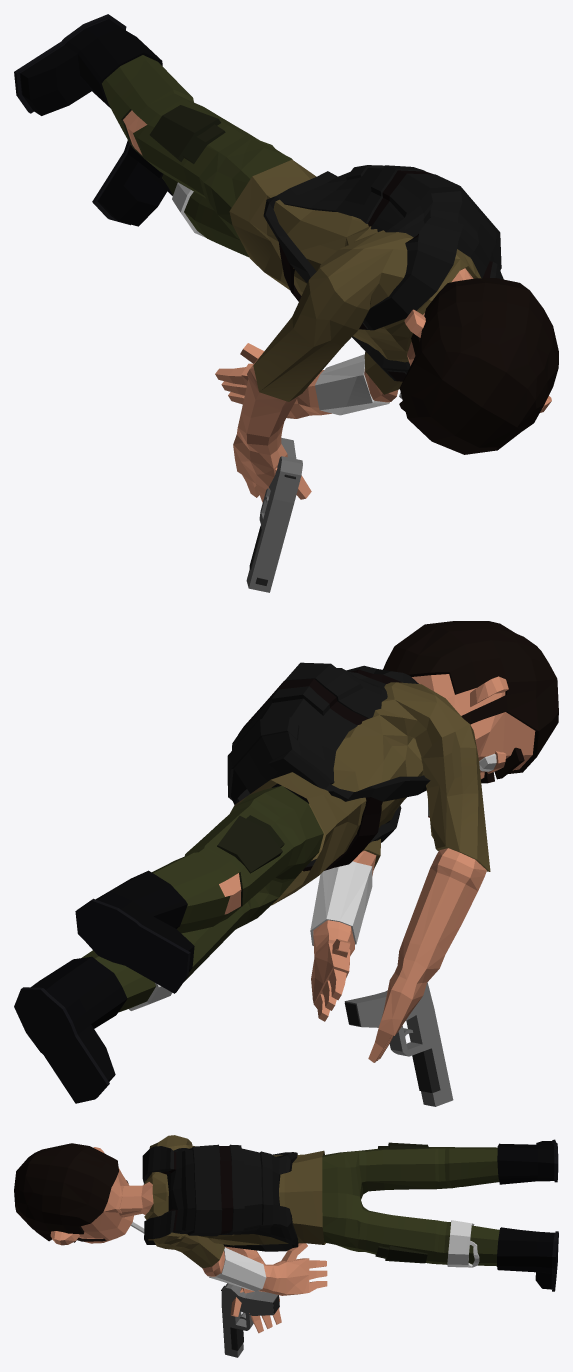
File: frame_0005.obj
3 renders of one model, top to bottom at view 1: azimuth 30°, elevation 25°; view 2: azimuth 150°, elevation 25°; view 3: azimuth 270°, elevation 25°, orthographic. The views are drawn at different scales.
Visible parts, largest first — view 1: Body, Gun; view 2: Body, Gun; view 3: Body, Gun.
Boxes of the visible parts, left/top/right/bottom form: Body: left=14, top=14, right=558, bottom=502; Gun: left=246, top=438, right=302, bottom=592; Body: left=14, top=621, right=558, bottom=1103; Gun: left=344, top=982, right=453, bottom=1106; Body: left=14, top=1135, right=558, bottom=1333; Gun: left=221, top=1283, right=279, bottom=1357.
Size of the model in its own units: 1.35 by 2.12 by 4.15.
